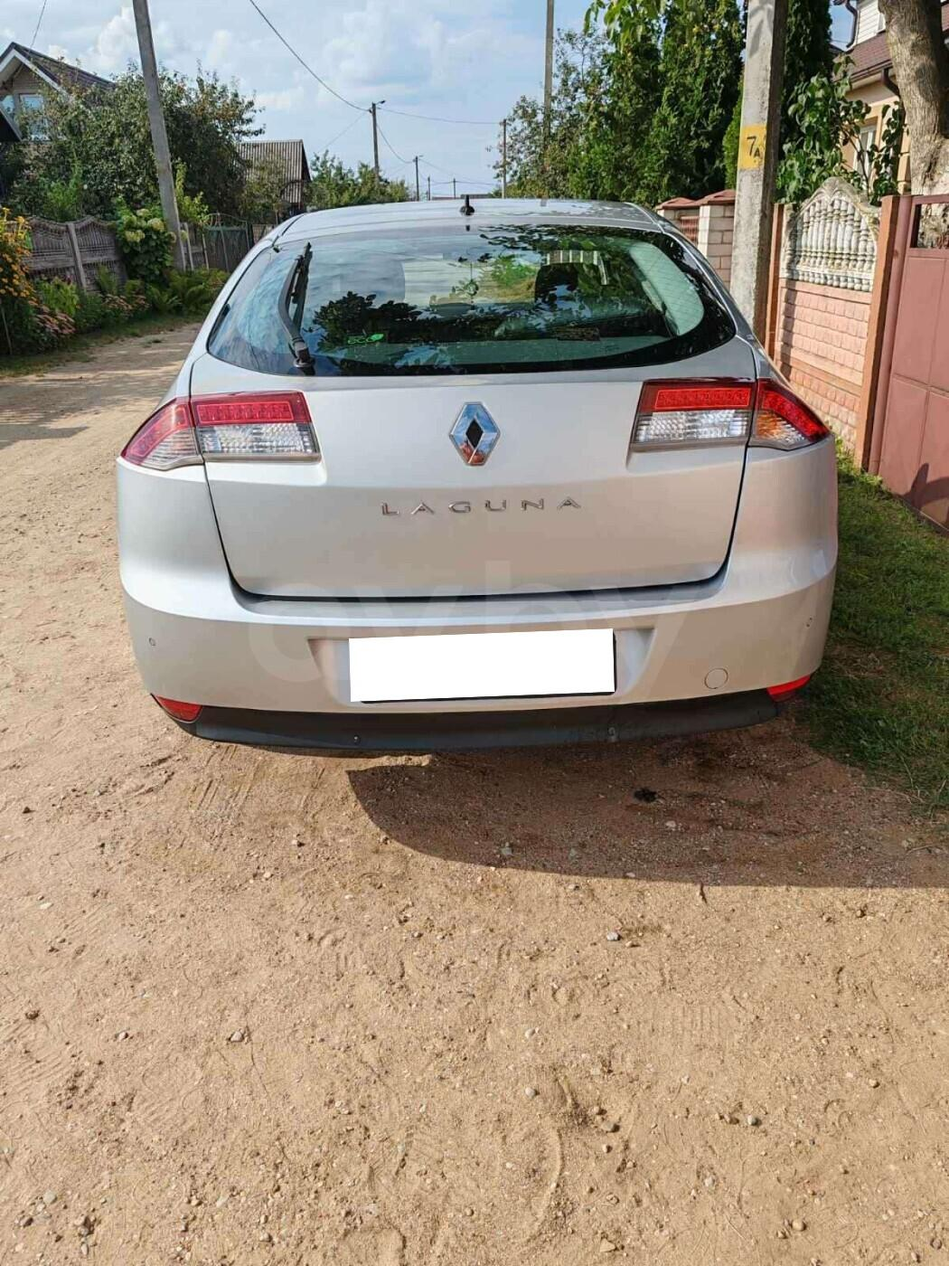Laguna_2007-2011: (116, 198, 837, 755)
